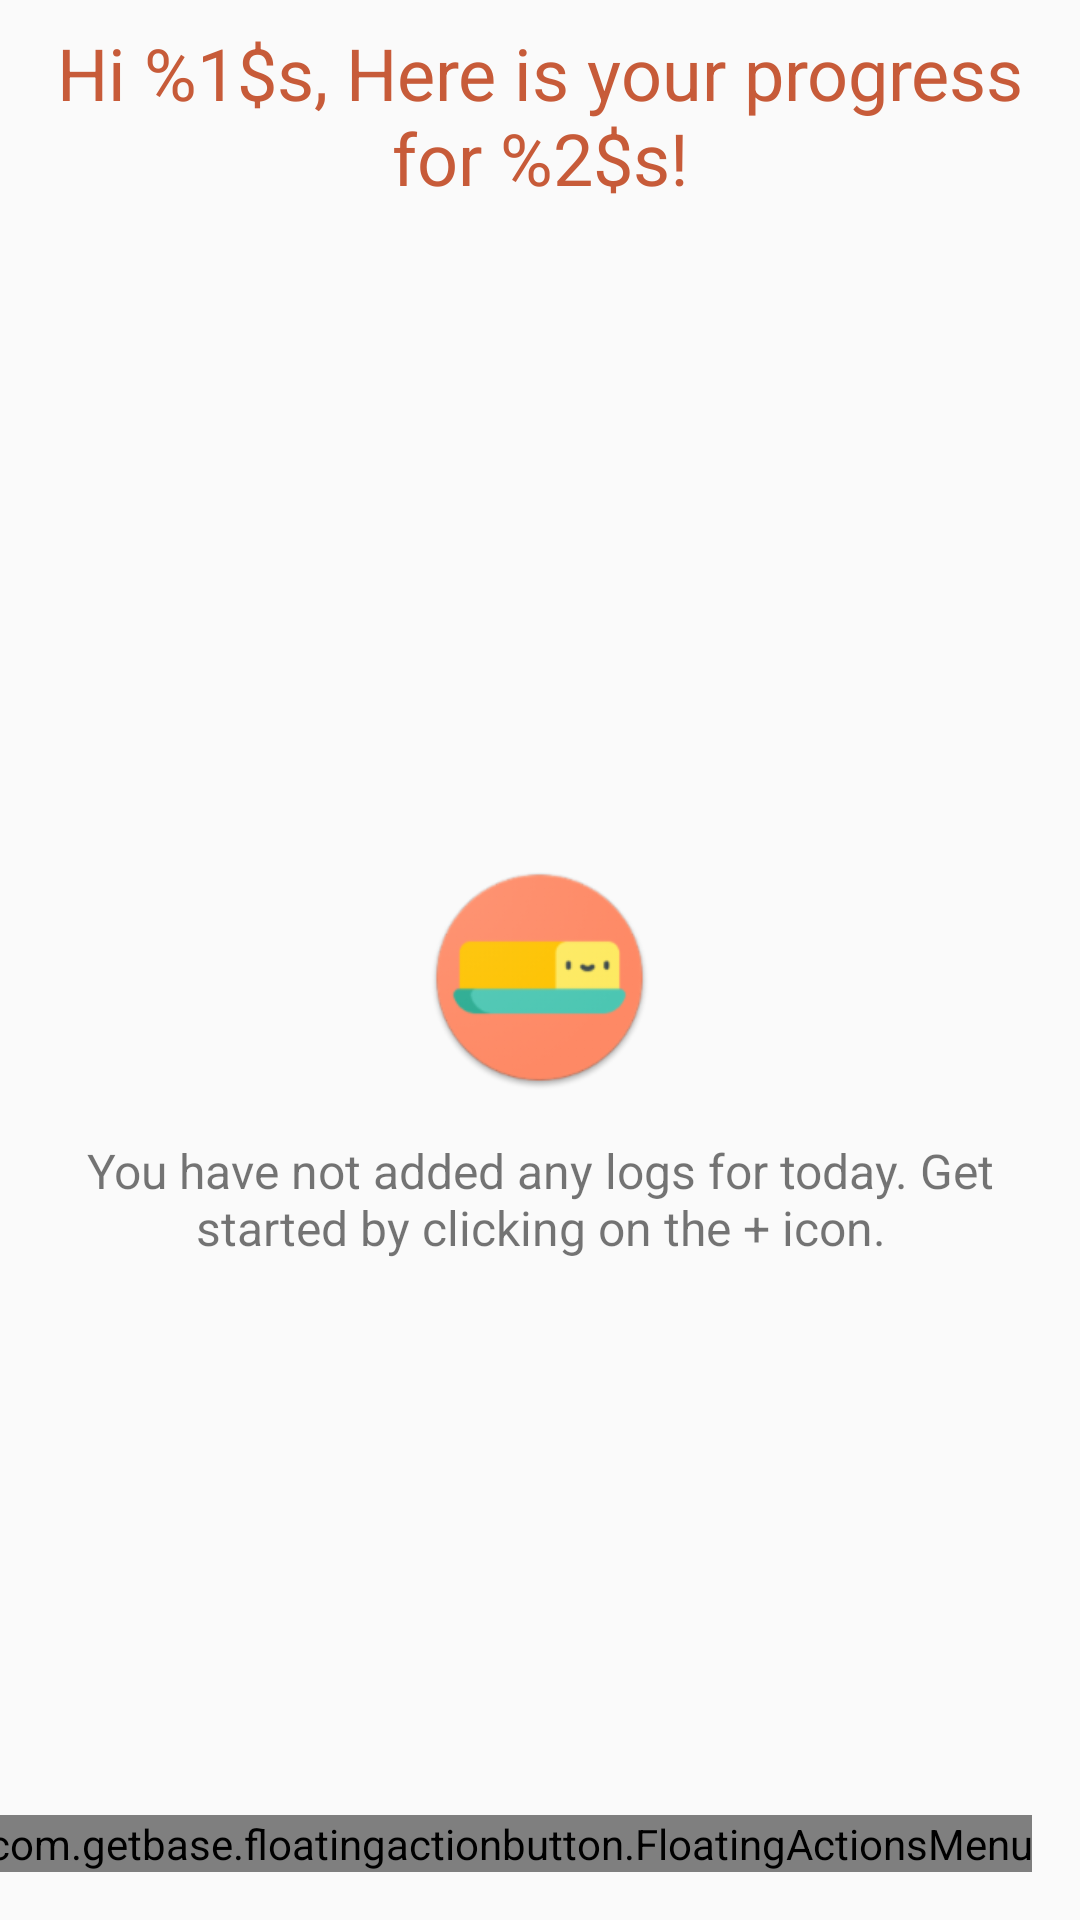

Screen size 1080x1920. Icon name, then its box in pixels as (x1=x1, y1=y1, x2=x2, y2=y2):
buttery round: (x1=435, y1=874, x2=644, y2=1085)
